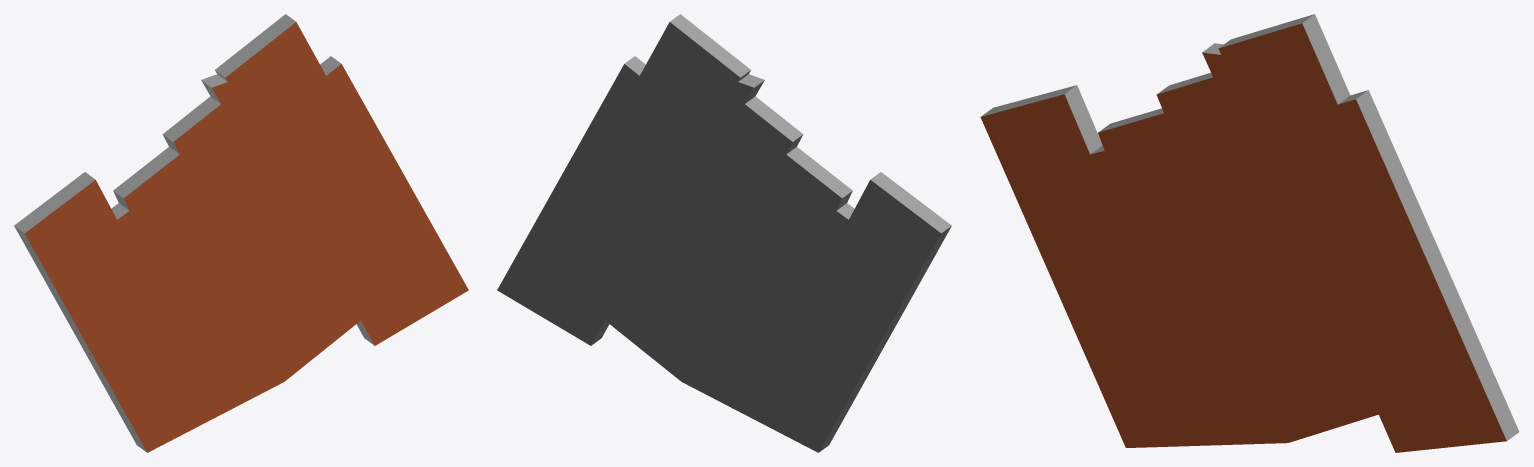
File: construction_0139_assumed_A_Grande_construcao_h6m.obj
3 renders of one model, left to right at view 1: azimuth 30°, elevation 25°; view 2: azimuth 150°, elevation 25°; view 3: azimuth 330°, elevation 25°, orthographic. The views are drawn at different scales.
Visible parts, largest first — view 1: construction_0139_assumed_A_Grande_construcao; view 2: construction_0139_assumed_A_Grande_construcao; view 3: construction_0139_assumed_A_Grande_construcao.
Part boxes in pixels (x1,y1,x2,y2): construction_0139_assumed_A_Grande_construcao: (14,14,468,452); construction_0139_assumed_A_Grande_construcao: (497,14,951,452); construction_0139_assumed_A_Grande_construcao: (980,14,1519,452).
Bounding box in the file's own units: 144 × 122 × 6.
